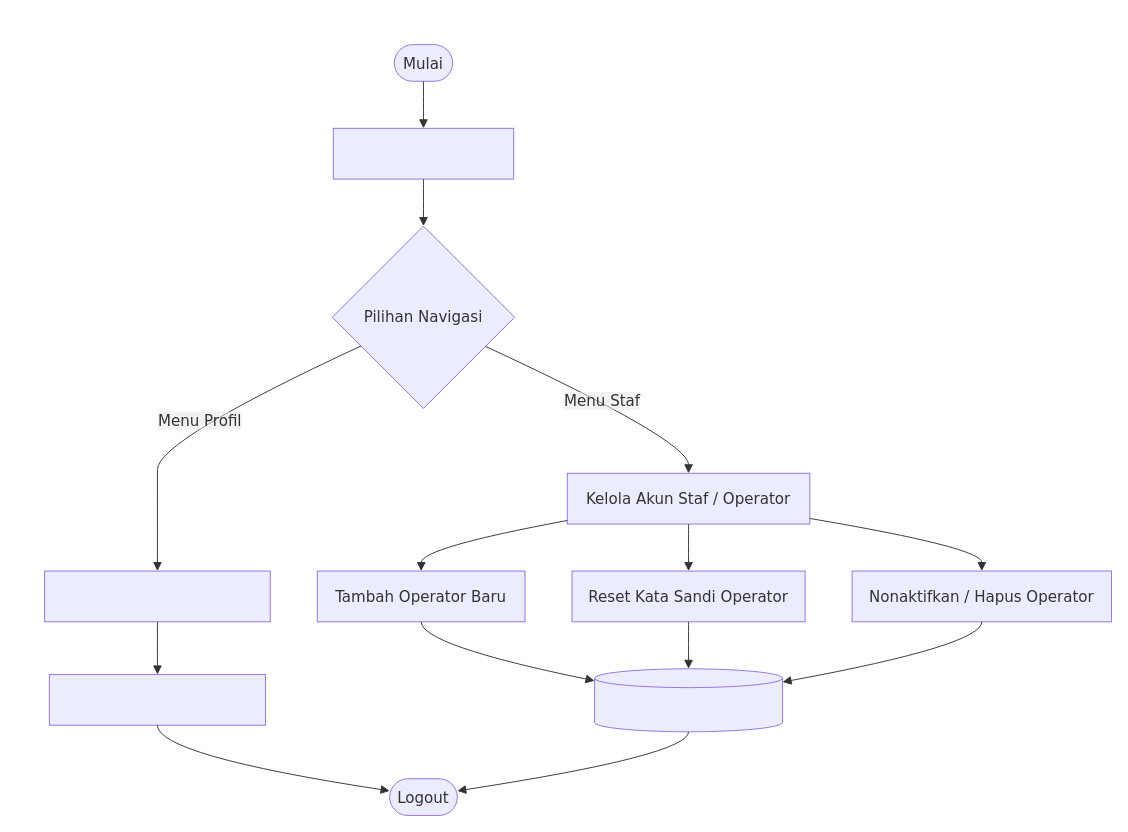
This 1128x832 diagram has some shape labels left out. The shapes that lost their labels are listed below. From the top down, each one's centre as x and y in pixels, then its label:
point 423,153: Login Super Admin
point 157,596: Kelola Profil Akun Sendiri
point 157,699: Simpan Perubahan Akun
point 688,700: Database Users Terupdate
